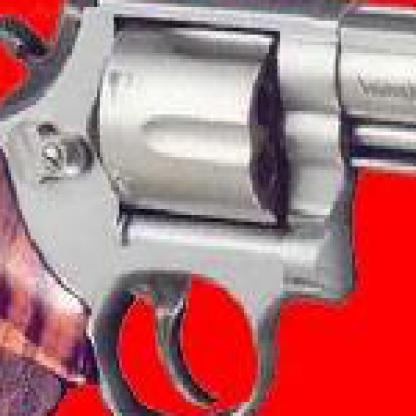gun: (0, 0, 413, 413)
